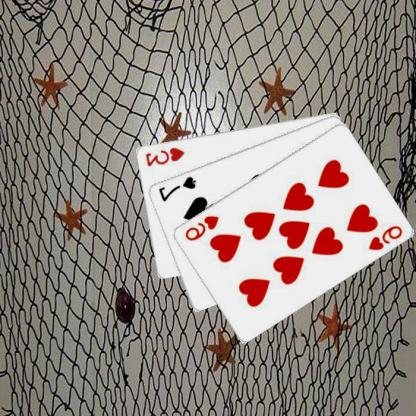3H: (145, 144, 188, 168)
7S: (157, 174, 198, 202)
9H: (184, 213, 221, 242), (368, 223, 405, 252)
